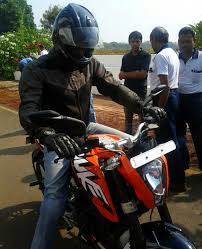helmet: (46, 1, 106, 75)
